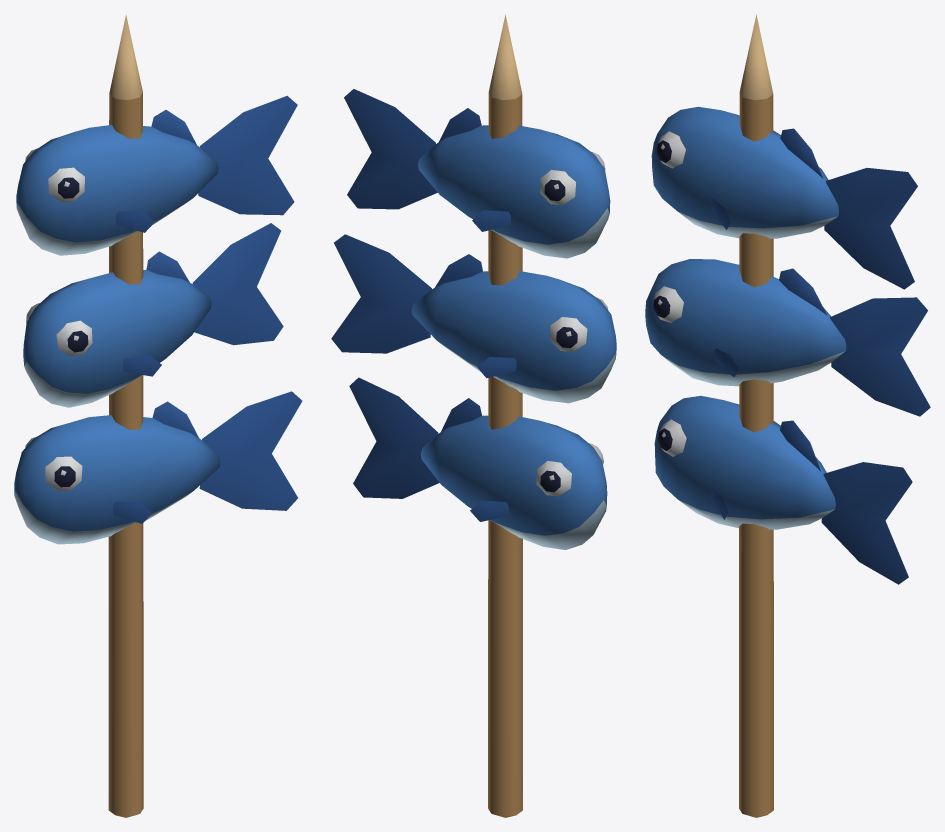
Rendered from Cosmetic_FishSkewer.glb.
3 views of the same model, side by side, from view 1: azimuth 30°, elevation 25°; view 2: azimuth 150°, elevation 25°; view 3: azimuth 330°, elevation 25° (orthographic).
Parts seen in each view (by area): view 1: Cosmetic_FishSkewer; view 2: Cosmetic_FishSkewer; view 3: Cosmetic_FishSkewer.
Part boxes in pixels (left/top/right/bottom): Cosmetic_FishSkewer: left=14, top=14, right=302, bottom=817; Cosmetic_FishSkewer: left=331, top=14, right=616, bottom=817; Cosmetic_FishSkewer: left=645, top=14, right=930, bottom=817.
Size of the model in its own units: 0.4598 by 1.3 by 0.1599.
